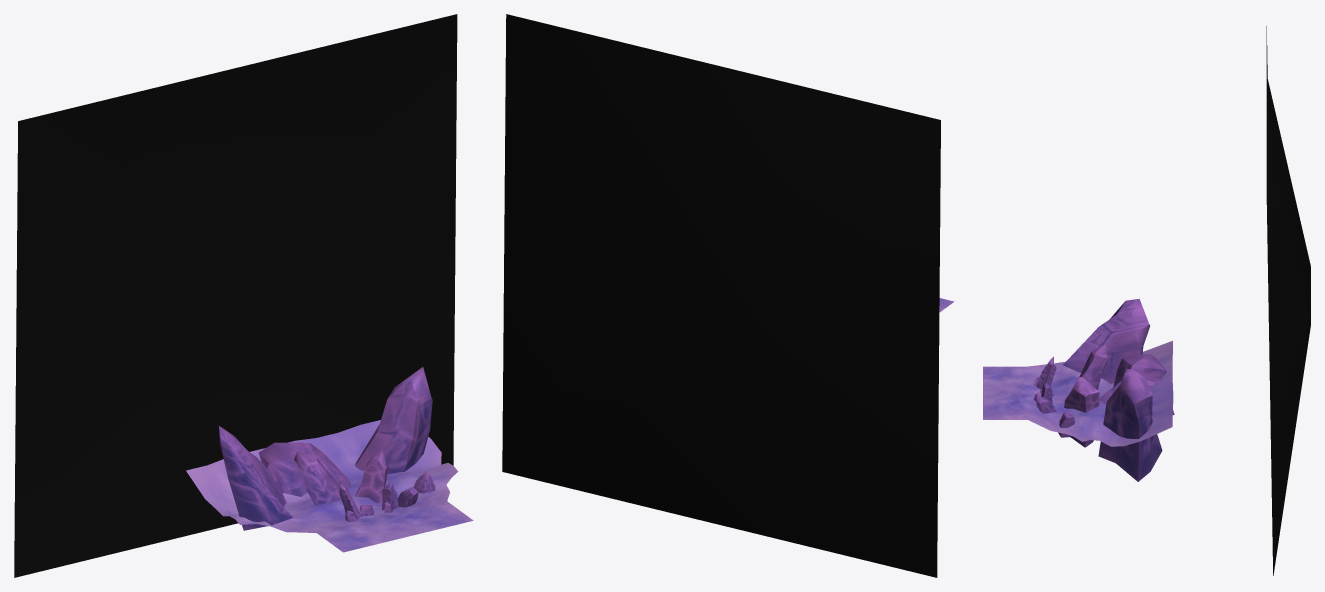
File: EnviroBackground(1).dae
3 renders of one model, left to right at view 1: azimuth 30°, elevation 25°; view 2: azimuth 150°, elevation 25°; view 3: azimuth 270°, elevation 25°, orthographic. The views are drawn at different scales.
Visible parts, largest first — view 1: pPlane6, pPlane9; view 2: pPlane6; view 3: pPlane9, pPlane6.
Part boxes in pixels (x1,y1,x2,y2): pPlane6: (14,14,457,577); pPlane9: (186,367,473,552); pPlane6: (502,14,940,577); pPlane9: (983,298,1174,481); pPlane6: (1266,26,1310,575).
Bounding box in the file's own units: 1637 × 1637 × 1264.
